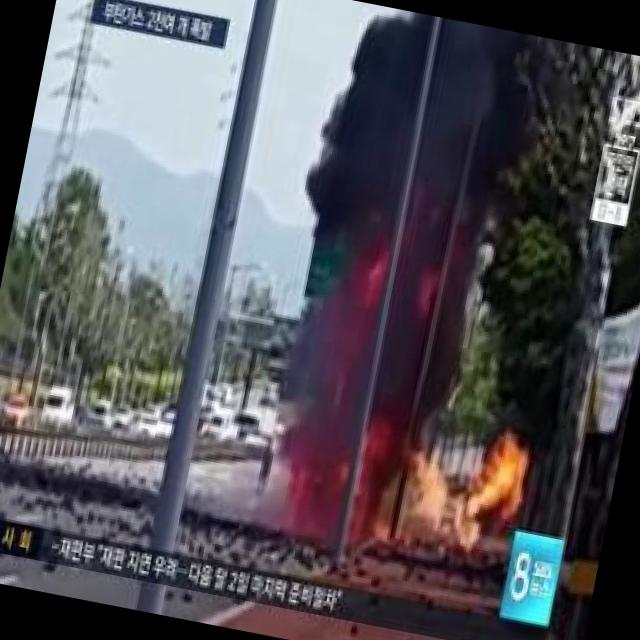Fire: (402, 432, 538, 562)
